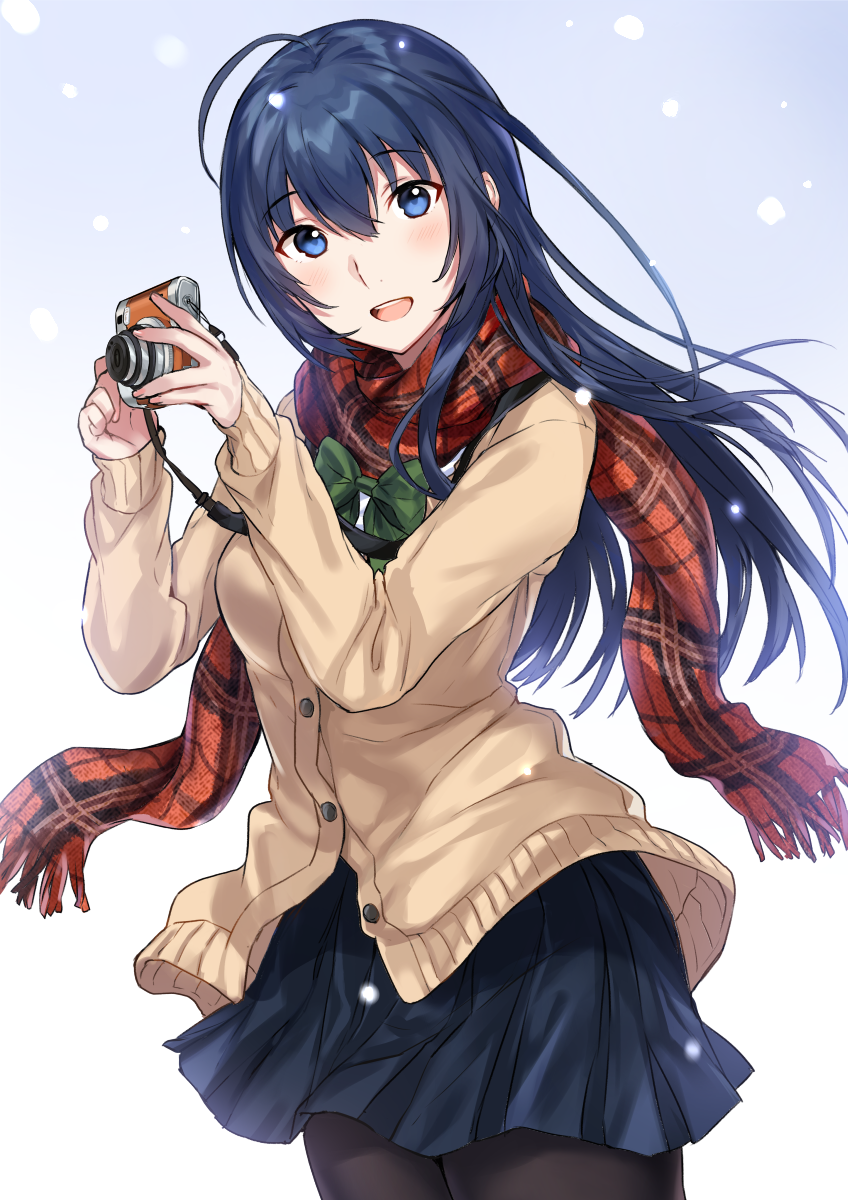纸片人正脸: (198, 15, 541, 372)
